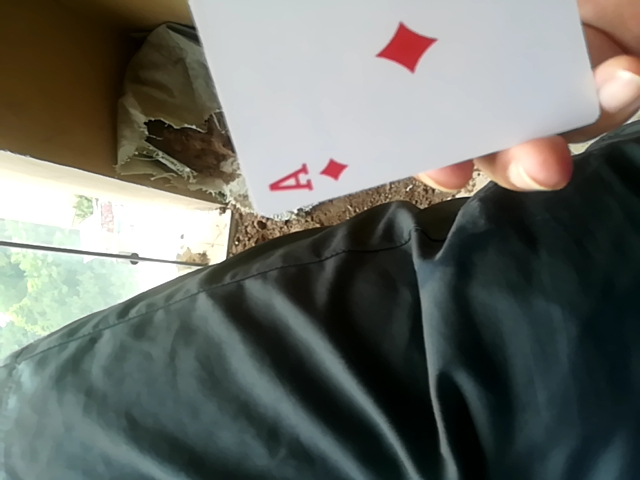fk a: (165, 0, 597, 217)
